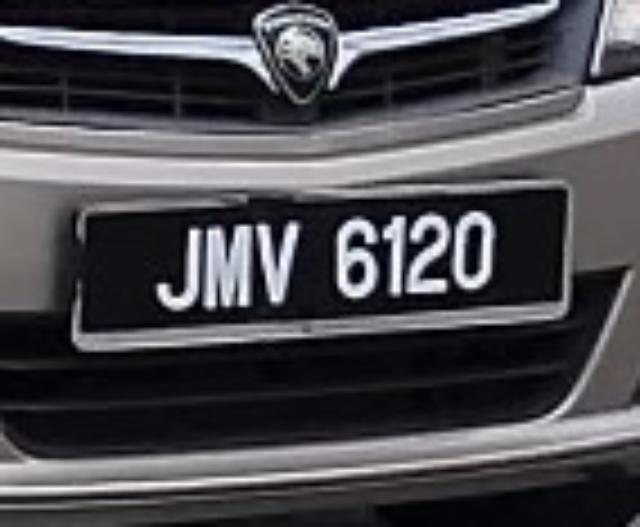License_Plate: (76, 179, 577, 355)
